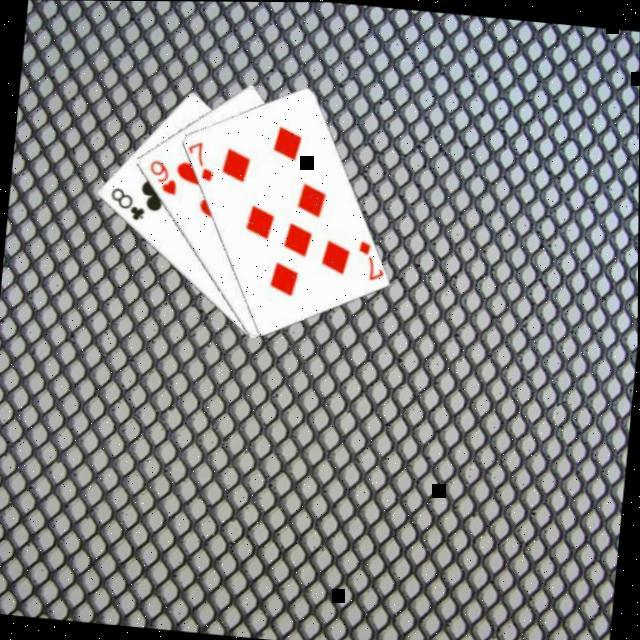7D: (183, 135, 219, 184), (352, 235, 388, 282)
8C: (105, 182, 150, 223)
9H: (144, 154, 182, 197)
